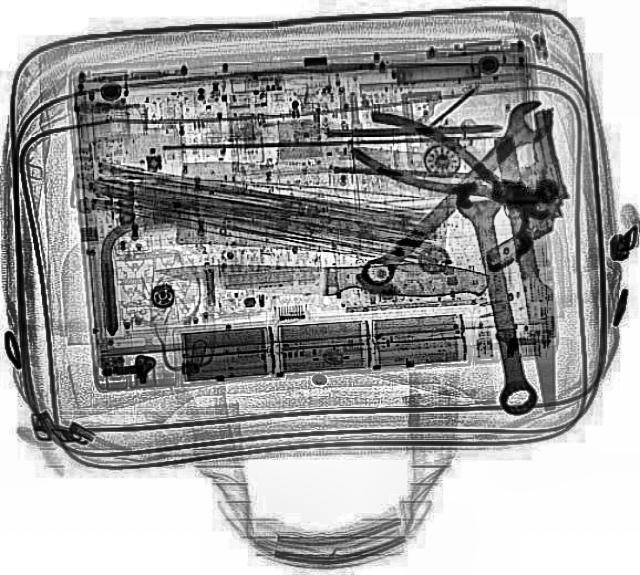Gun: (455, 106, 581, 272)
Knife: (494, 133, 572, 409), (154, 257, 488, 299)
Pliers: (341, 103, 554, 231)
Wrench: (348, 90, 566, 294), (450, 174, 548, 416)
